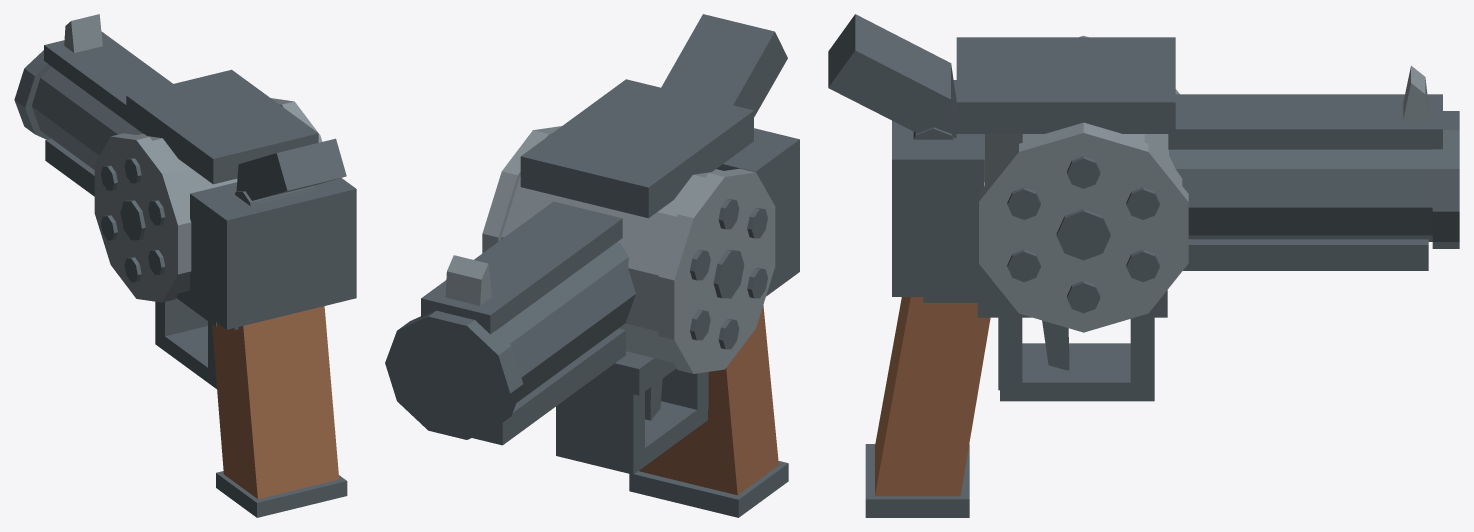
File: stylized_low_poly_revolver.gltf
3 renders of one model, left to right at view 1: azimuth 30°, elevation 25°; view 2: azimuth 150°, elevation 25°; view 3: azimuth 270°, elevation 25°, orthographic. The views are drawn at different scales.
Visible parts, largest first — view 1: Frame, Handle, Cylinder, Barrel, Hammer, FrontSight; view 2: Frame, Barrel, Cylinder, Handle, Hammer, FrontSight, Trigger; view 3: Barrel, Frame, Cylinder, Handle, Hammer, FrontSight, Trigger.
Boxes of the visible parts, x1,y1,x2,y2 form: Frame: (126,69,356,388); Handle: (212,306,347,517); Cylinder: (94,98,322,302); Barrel: (14,31,172,196); Hammer: (235,138,346,206); FrontSight: (64,14,102,52); Frame: (520,79,799,474); Barrel: (385,201,635,445); Cylinder: (482,126,775,373); Handle: (629,305,788,517); Hammer: (661,14,787,117); FrontSight: (445,255,492,305); Trigger: (645,379,662,420); Barrel: (1168,94,1459,270); Frame: (892,37,1175,401); Cylinder: (979,35,1188,332); Handle: (865,297,990,517); Hammer: (828,14,956,139); FrontSight: (1403,65,1428,120); Trigger: (1042,320,1069,370).
Size of the model in its own units: 1.23 by 2.53 by 3.16.
